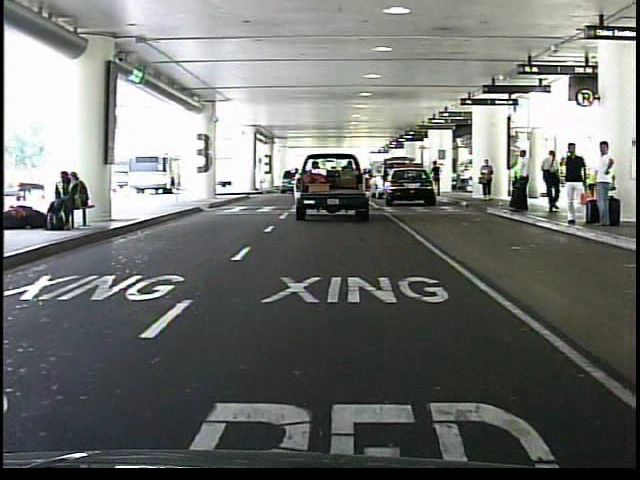person: (556, 140, 590, 229), (590, 137, 619, 234), (540, 145, 566, 215), (508, 147, 534, 215), (478, 158, 496, 204), (430, 160, 443, 199)
